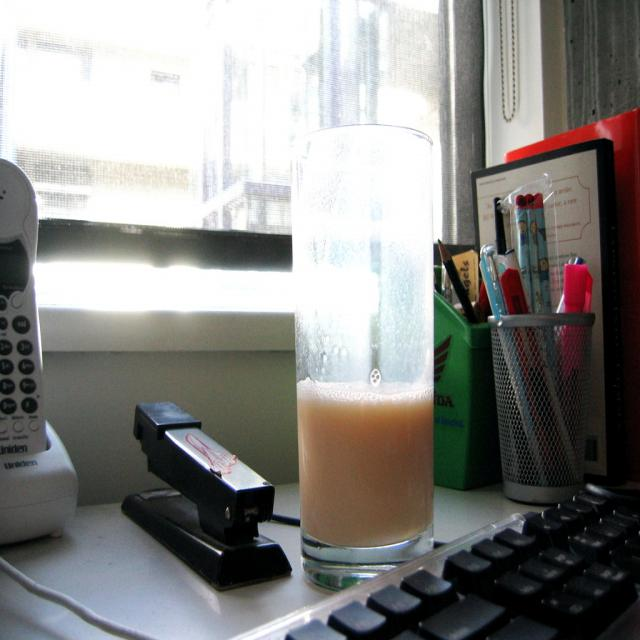desk: (0, 478, 639, 639)
keyboard: (232, 479, 640, 638)
